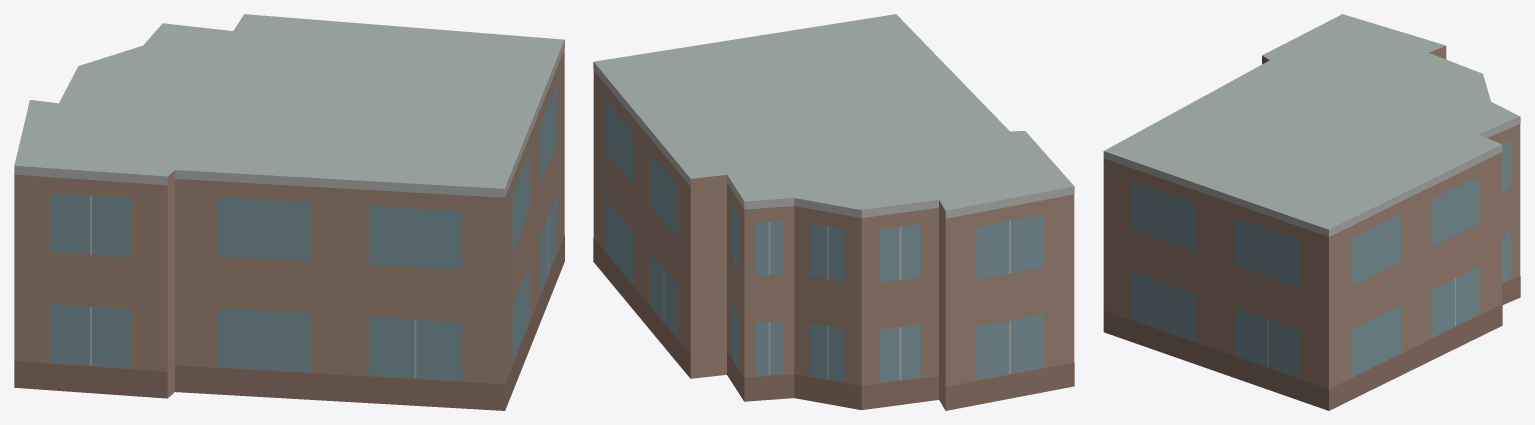
File: survey-upis-32752334.glb
3 views of the same model, side by side, from view 1: azimuth 30°, elevation 25°; view 2: azimuth 150°, elevation 25°; view 3: azimuth 270°, elevation 25° (orthographic). The views are drawn at different scales.
Visible parts, largest first — view 1: survey-upis-32752334.tmp; view 2: survey-upis-32752334.tmp; view 3: survey-upis-32752334.tmp.
Boxes of the visible parts, box(x1,y1,x2,y2) form: survey-upis-32752334.tmp: box(14, 14, 564, 410); survey-upis-32752334.tmp: box(593, 14, 1074, 410); survey-upis-32752334.tmp: box(1103, 14, 1520, 410).
Bounding box in the file's own units: 15.6 × 6.1 × 12.73.
